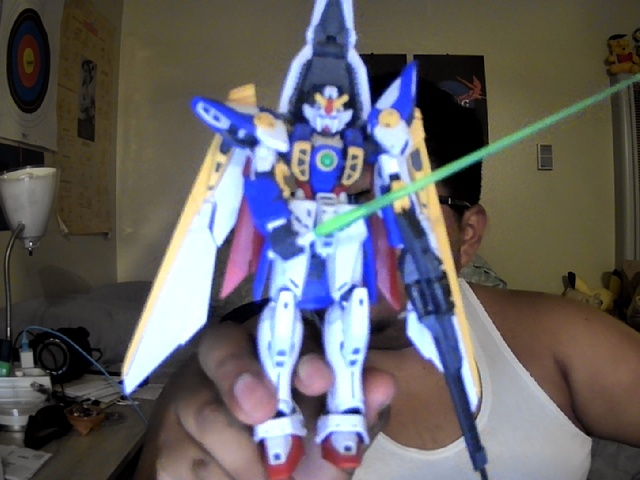Wing-01: (121, 3, 640, 475)
